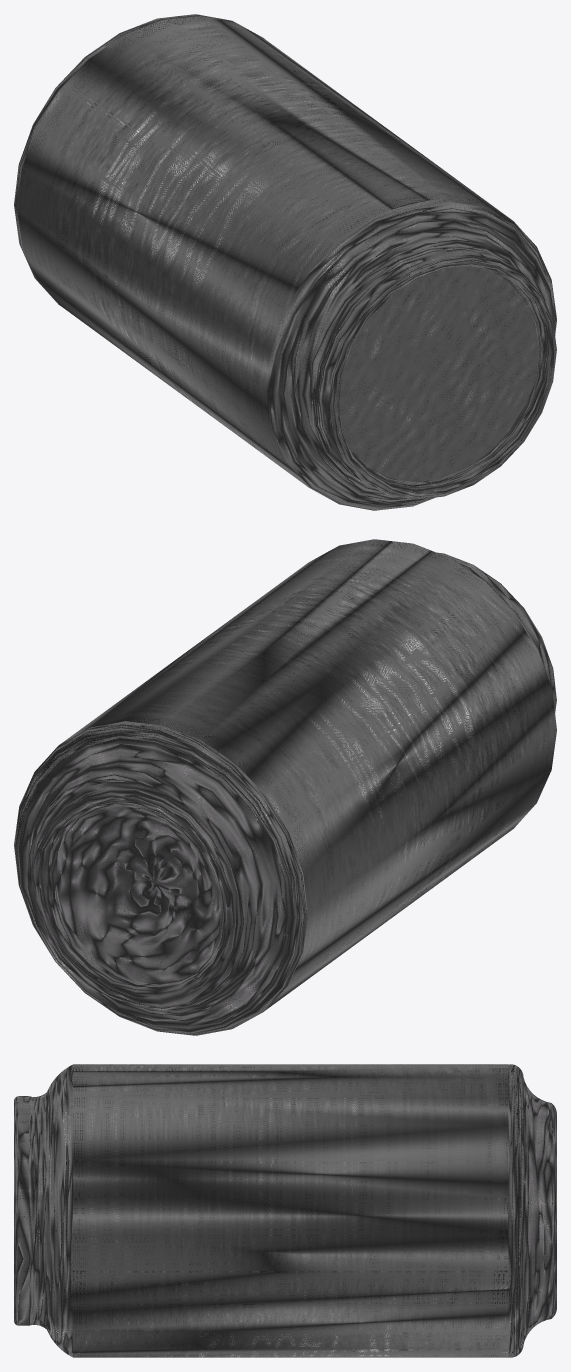
The model's file is model_align.obj.
3 renders of one model, top to bottom at view 1: azimuth 30°, elevation 25°; view 2: azimuth 150°, elevation 25°; view 3: azimuth 270°, elevation 25°, orthographic. The views are drawn at different scales.
Size of the model in its own units: 0.0702 by 0.0702 by 0.1293.
